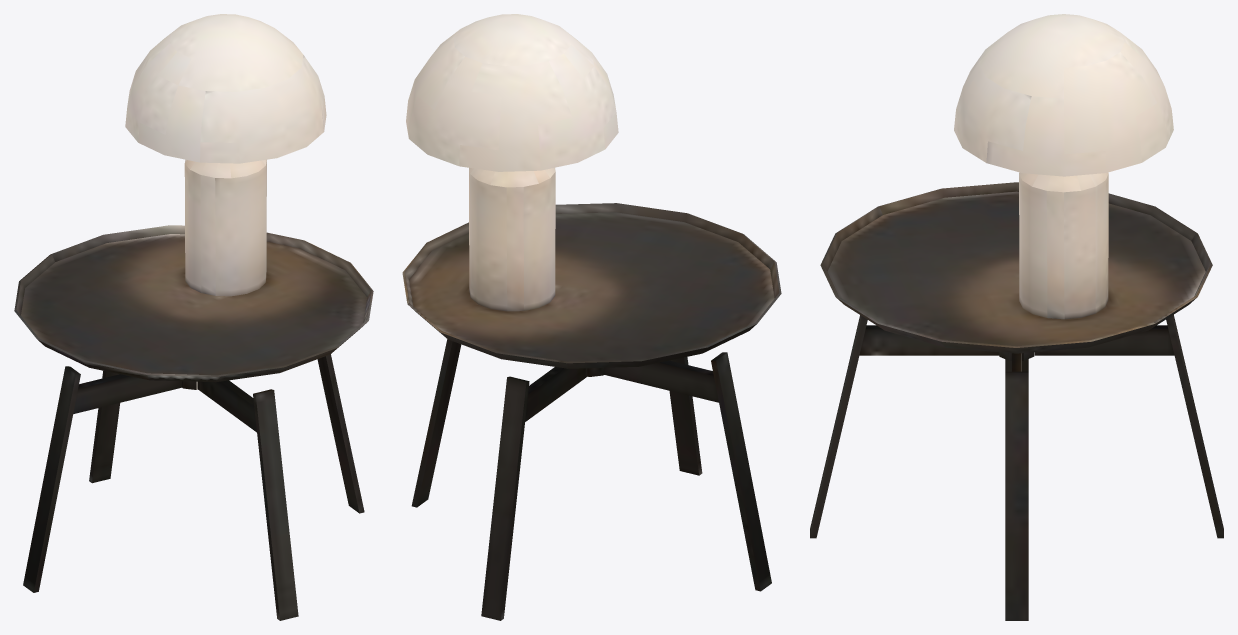
Rendered from bed_table_2.glb.
3 views of the same model, side by side, from view 1: azimuth 30°, elevation 25°; view 2: azimuth 150°, elevation 25°; view 3: azimuth 270°, elevation 25° (orthographic). The views are drawn at different scales.
Visible parts, largest first — view 1: bedTable2; view 2: bedTable2; view 3: bedTable2.
Part boxes in pixels (x1,y1,x2,y2): bedTable2: (14,14,373,620); bedTable2: (402,14,781,620); bedTable2: (810,14,1223,620).
Size of what is drawn, in the model's own units: 0.6383 by 0.9169 by 0.6383.
1 material, 1 textured.
